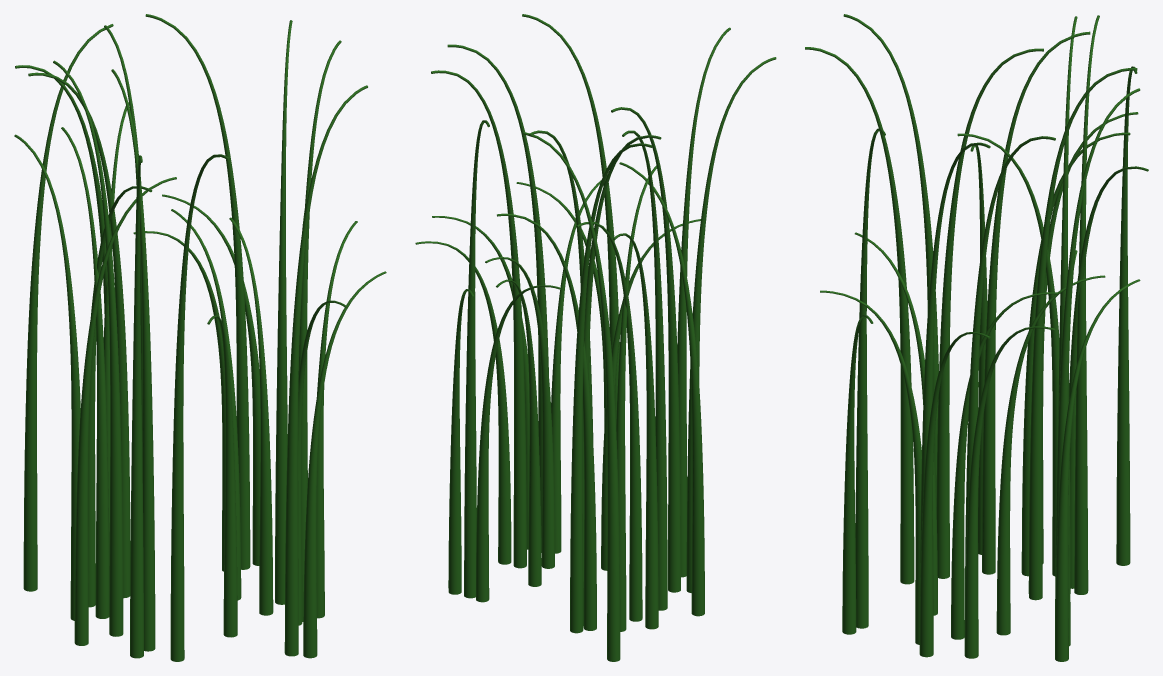
File: module-bamboo.glb
The picture shows the model from 3 angles, left to right: view 1: azimuth 30°, elevation 25°; view 2: azimuth 150°, elevation 25°; view 3: azimuth 270°, elevation 25°; orthographic projection. The views are drawn at different scales.
Parts seen in each view (by area): view 1: bamboo-tex; view 2: bamboo-tex; view 3: bamboo-tex.
Part boxes in pixels (x1,y1,x2,y2): bamboo-tex: (14, 14, 386, 661); bamboo-tex: (415, 14, 776, 661); bamboo-tex: (805, 14, 1148, 661).
Bounding box in the file's own units: 5.57 × 9.87 × 5.75.
